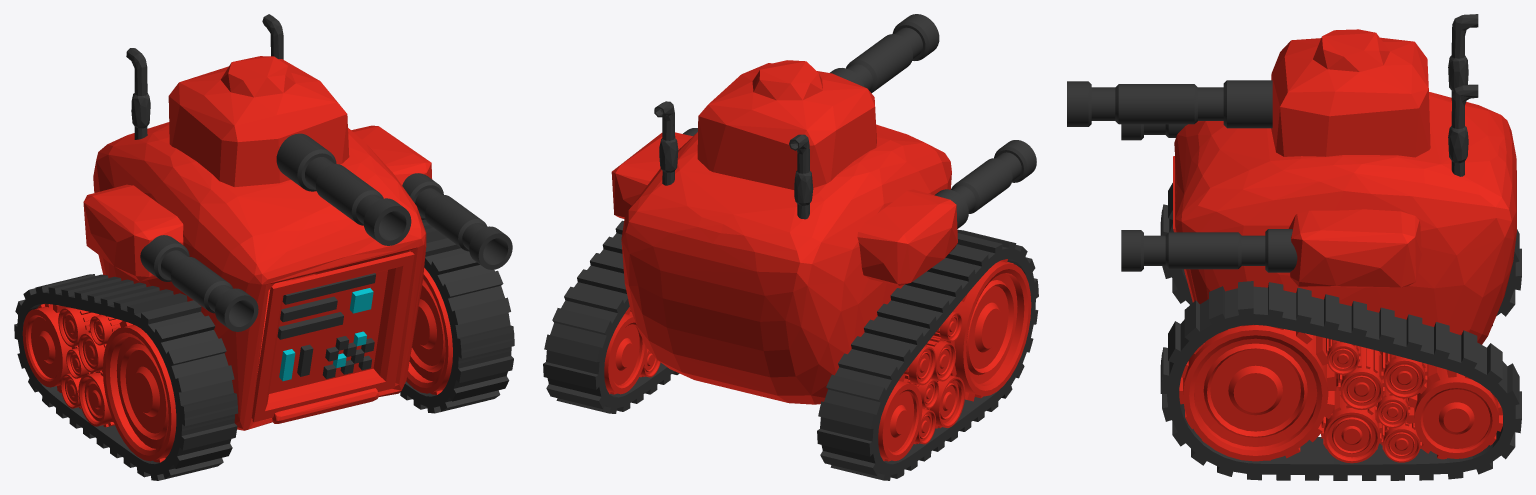
The model's file is Chassis.fbx.
3 renders of one model, left to right at view 1: azimuth 30°, elevation 25°; view 2: azimuth 150°, elevation 25°; view 3: azimuth 270°, elevation 25°, orthographic. The views are drawn at different scales.
Visible parts, largest first — view 1: Cube.001, Cube.002, Cube.004, Cube.005, Cylinder.009, Cube.006, Cylinder.008, Elbow Joint.000; view 2: Cube.002, Cube.001, Cube.005, Cube.006, Cylinder.008, Cylinder.009, Elbow Joint.000; view 3: Cube.001, Cube.002, Cube.005, Cube.006, Cylinder.008, Cylinder.009, Elbow Joint.000.
Part boxes in pixels (<box>): Cube.001: <box>14,219,514,480</box>; Cube.002: <box>93,122,426,430</box>; Cube.004: <box>251,251,414,422</box>; Cube.005: <box>168,56,349,187</box>; Cylinder.009: <box>140,173,512,331</box>; Cube.006: <box>83,125,432,281</box>; Cylinder.008: <box>276,133,411,245</box>; Elbow Joint.000: <box>126,14,283,139</box>; Cube.002: <box>621,124,951,404</box>; Cube.001: <box>543,220,1038,480</box>; Cube.005: <box>697,60,876,189</box>; Cube.006: <box>611,132,957,285</box>; Cylinder.008: <box>830,14,939,93</box>; Cylinder.009: <box>683,128,1036,228</box>; Elbow Joint.000: <box>654,101,813,219</box>; Cube.001: <box>1160,183,1521,480</box>; Cube.002: <box>1174,92,1516,386</box>; Cube.005: <box>1271,29,1430,157</box>; Cube.006: <box>1288,209,1421,287</box>; Cylinder.008: <box>1067,80,1272,128</box>; Cylinder.009: <box>1121,124,1297,272</box>; Elbow Joint.000: <box>1448,14,1478,176</box>.
Size of the model in its own units: 891 by 855 by 989.
